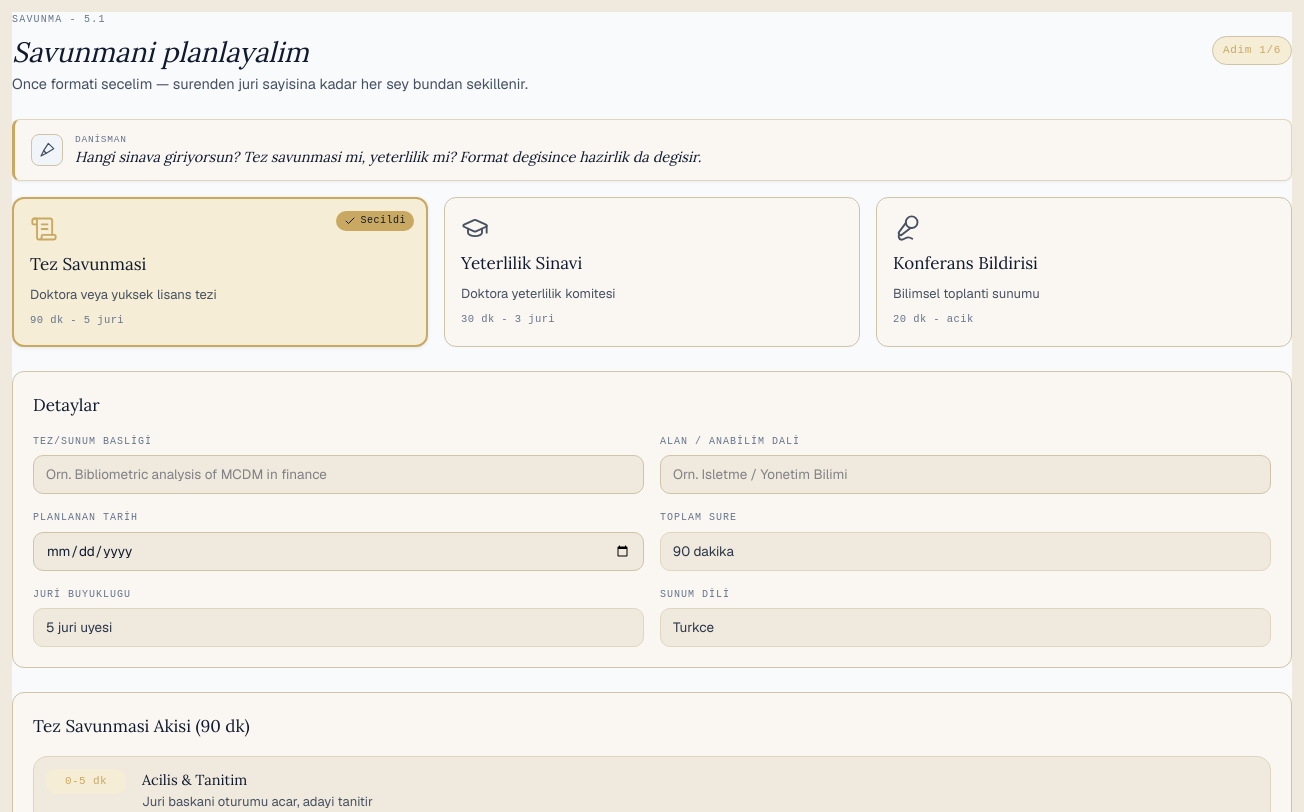
DefenseFormatPage — static UI › switches timeline rows + jury readout when qualifying is selected
Click the button "Yeterlilik Sinavi Doktora yeterlilik komitesi 30 dk - 3 juri" at (522, 263), box left=444, top=197, right=860, bottom=347
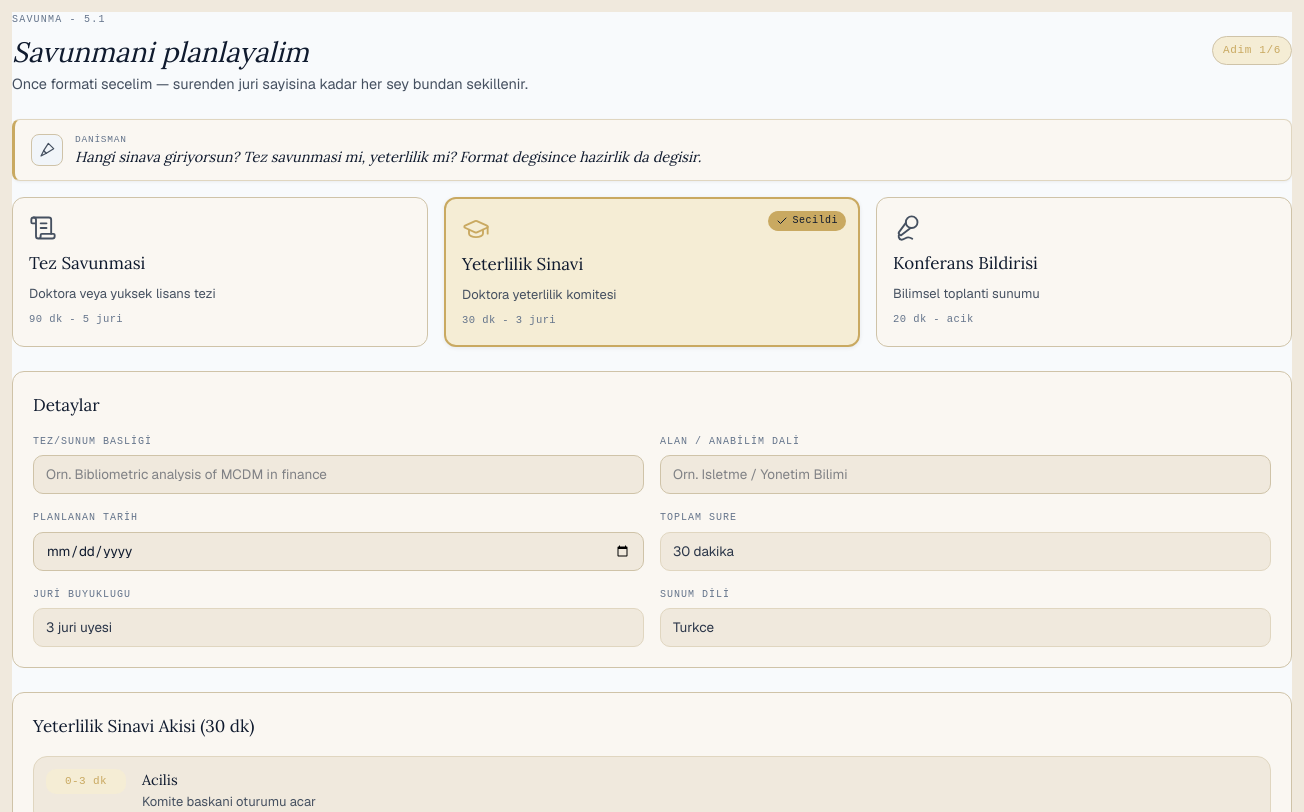
Now the heading "Yeterlilik Sinavi Akisi (30 dk)" is shown, box left=33, top=715, right=254, bottom=737
Now the text "3 juri uyesi" is shown, box left=33, top=608, right=644, bottom=647
